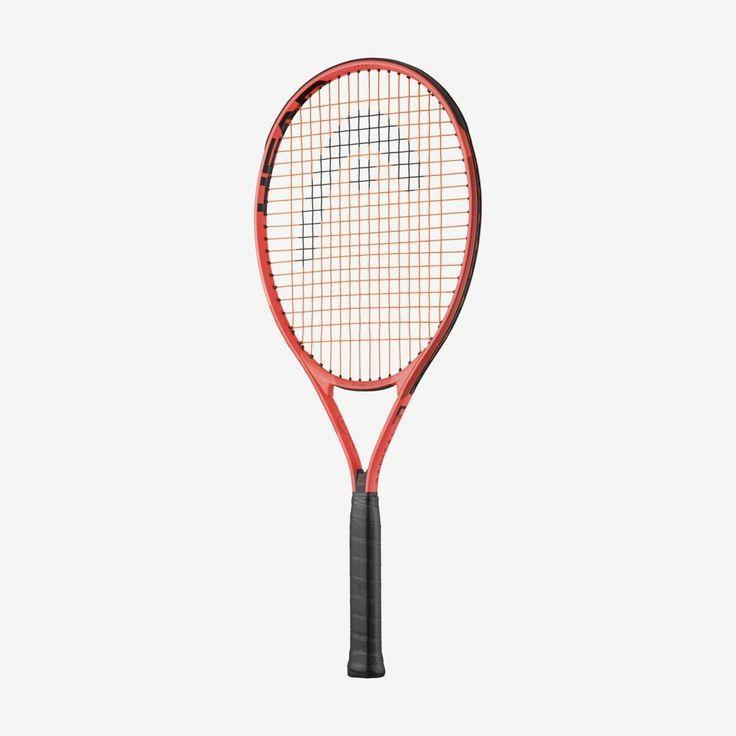Tennis-Racket: (248, 45, 478, 695)
